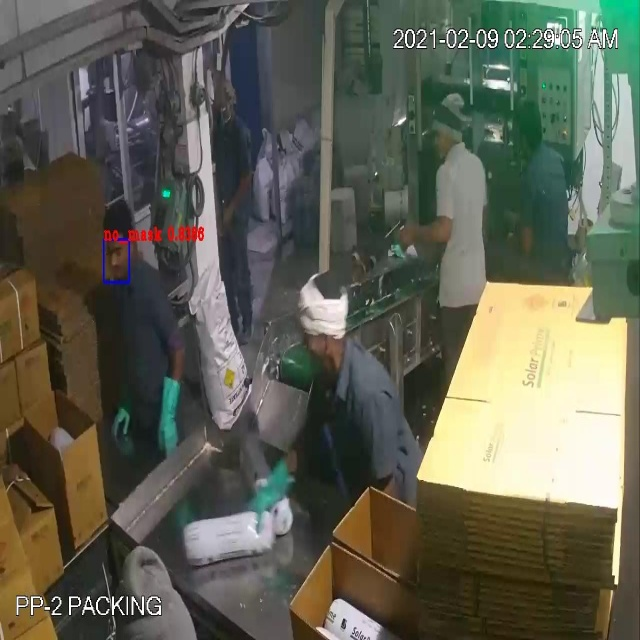Guantes: (233, 458, 302, 536), (152, 361, 185, 466), (108, 382, 145, 444)
Sin_guantes: (383, 204, 460, 252), (220, 173, 260, 228)
